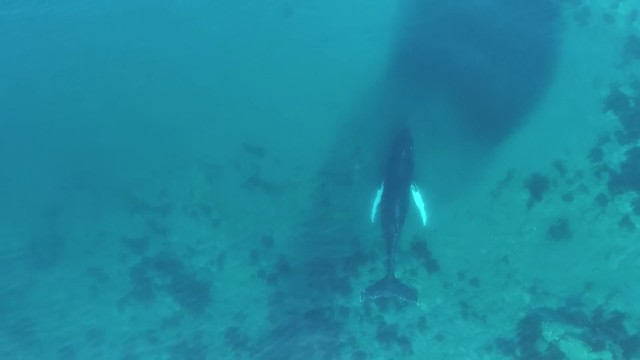whale: (361, 122, 434, 311)
